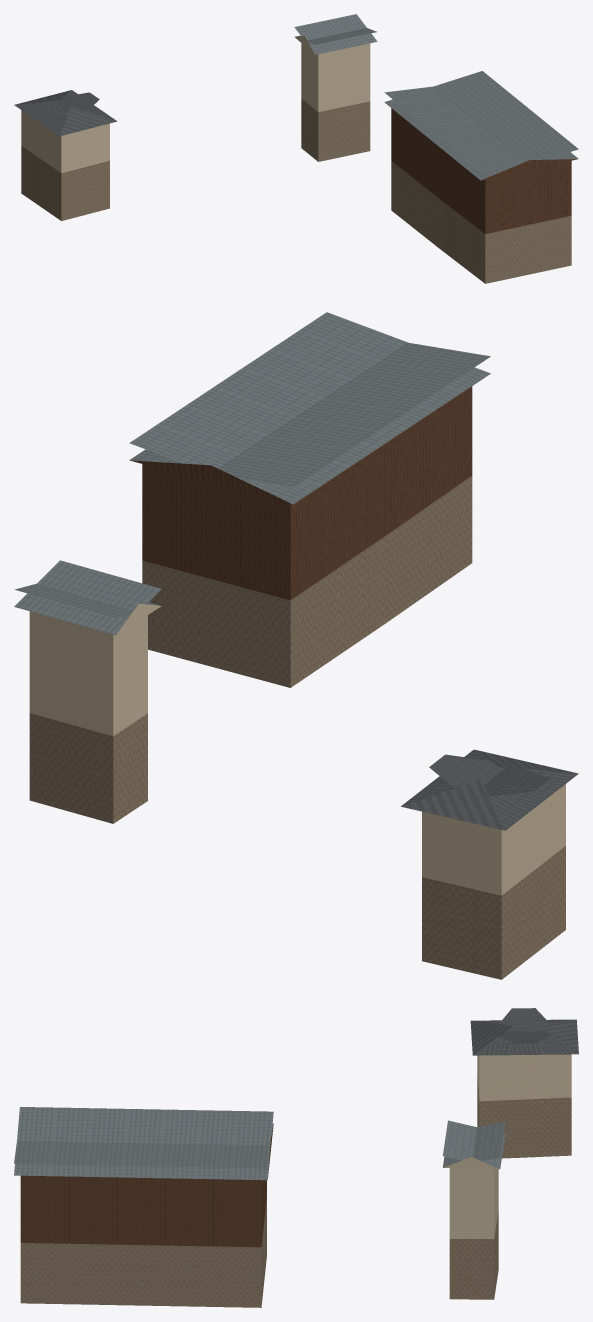
File: bld_c32_-38_449.gltf
The picture shows the model from 3 angles, top to bottom: view 1: azimuth 30°, elevation 25°; view 2: azimuth 150°, elevation 25°; view 3: azimuth 270°, elevation 25°; orthographic projection. The views are drawn at different scales.
Visible parts, largest first — view 1: bld_c32_-38_449; view 2: bld_c32_-38_449; view 3: bld_c32_-38_449.
Boxes of the visible parts, x1,y1,x2,y2 form: bld_c32_-38_449: [14, 14, 578, 283]; bld_c32_-38_449: [14, 312, 578, 979]; bld_c32_-38_449: [14, 1008, 578, 1307].
Bounding box in the file's own units: 36.57 × 13.5 × 43.18.
7 materials, 7 textured.
